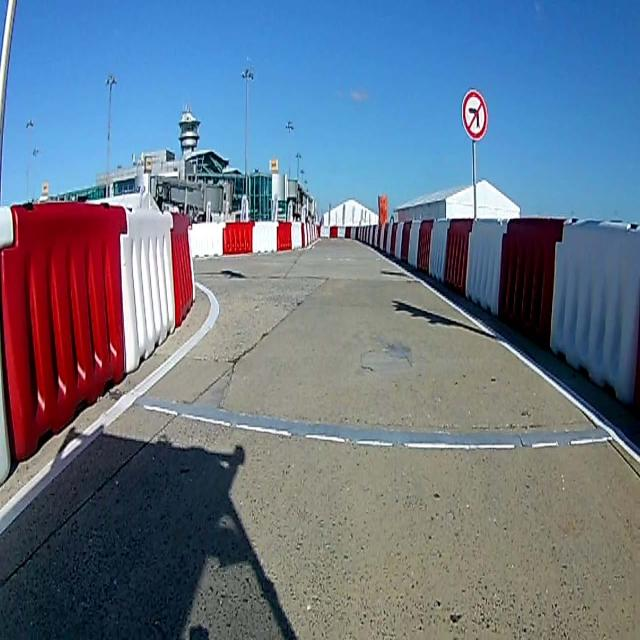soladonulmez: (461, 88, 489, 141)
